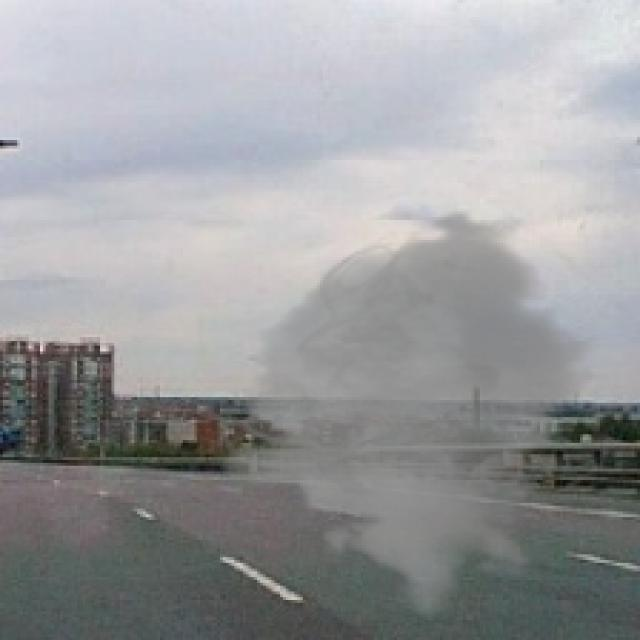Smoke: (202, 208, 628, 620)
